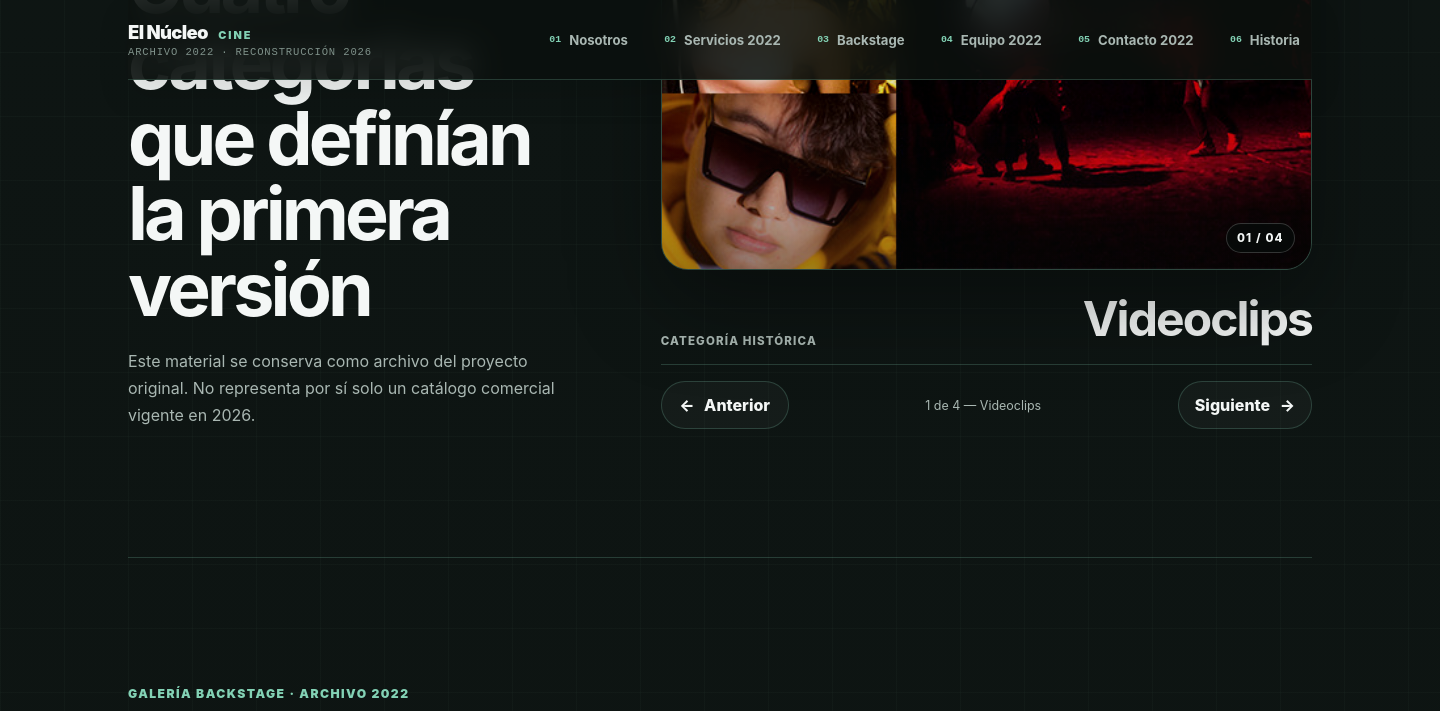
it: El Núcleo modern migration › moves through the archive with explicit accessible controls
(page scrolled)
Expected: the message reads "1 de 4 — Videoclips", [925,398,1041,413]
Click the button named "categoría siguiente". click: [1245, 405]
box: [1178,381,1312,429]
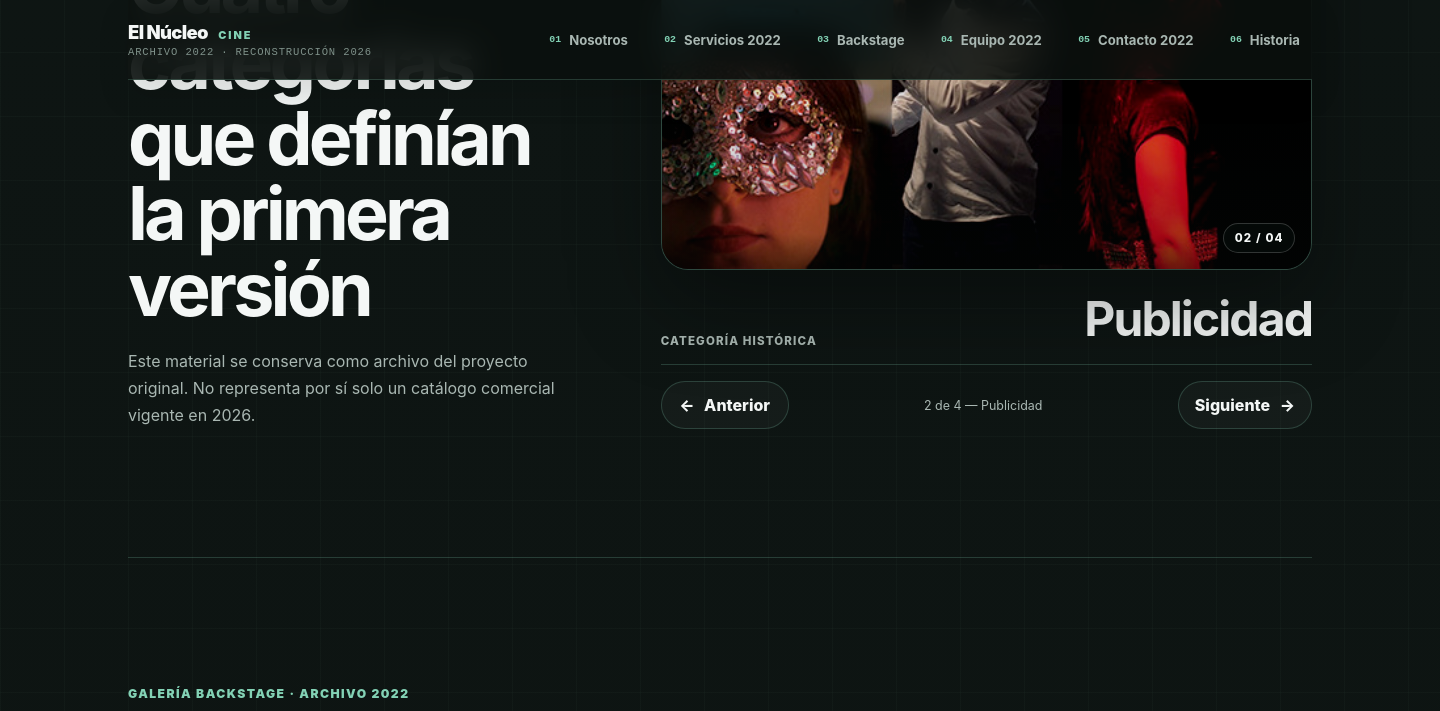
Result: the message reads "2 de 4 — Publicidad" at [924,398,1042,413]
Click the button named "categoría anterior". click: [725, 405]
box: [661,381,789,429]
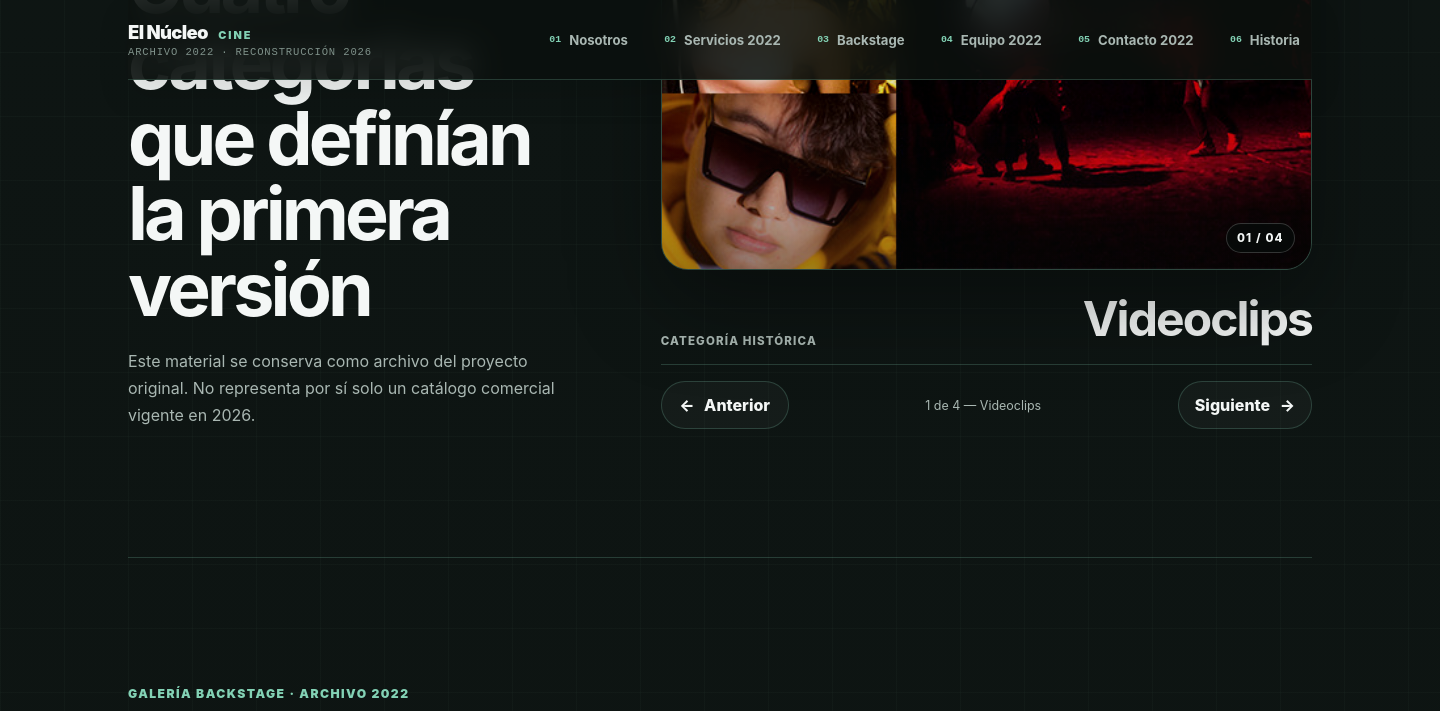
Result: the message reads "1 de 4 — Videoclips" at [925,398,1041,413]
